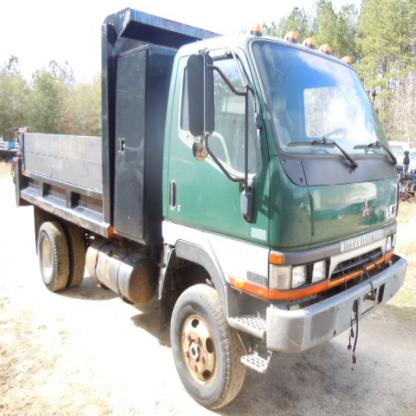truck: (12, 4, 409, 411)
